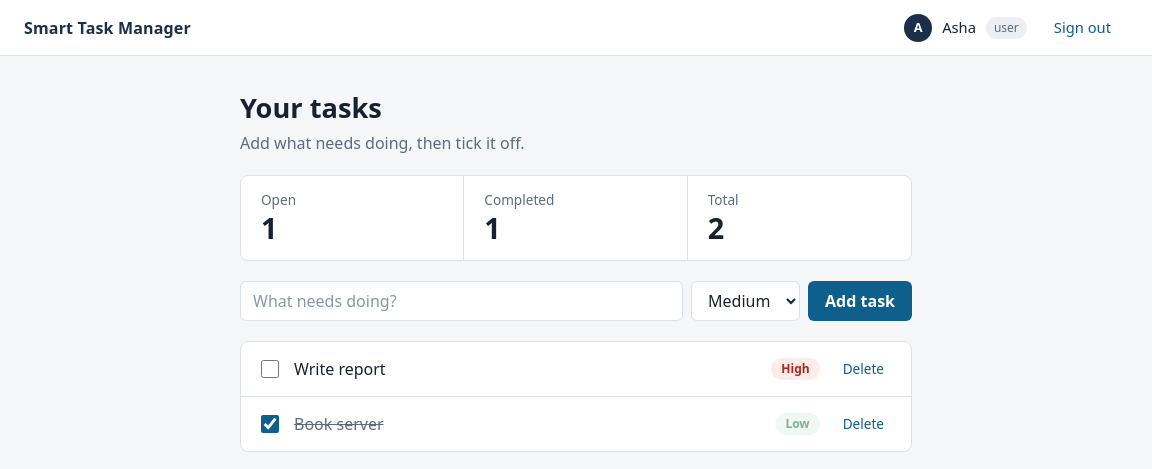
Test: ticking a task marks it done on the server
The image size is (1152, 469).
Step 1. Click the checkbox named "Mark \"Write report\" as done" → [270, 369], box [261,360,279,378]
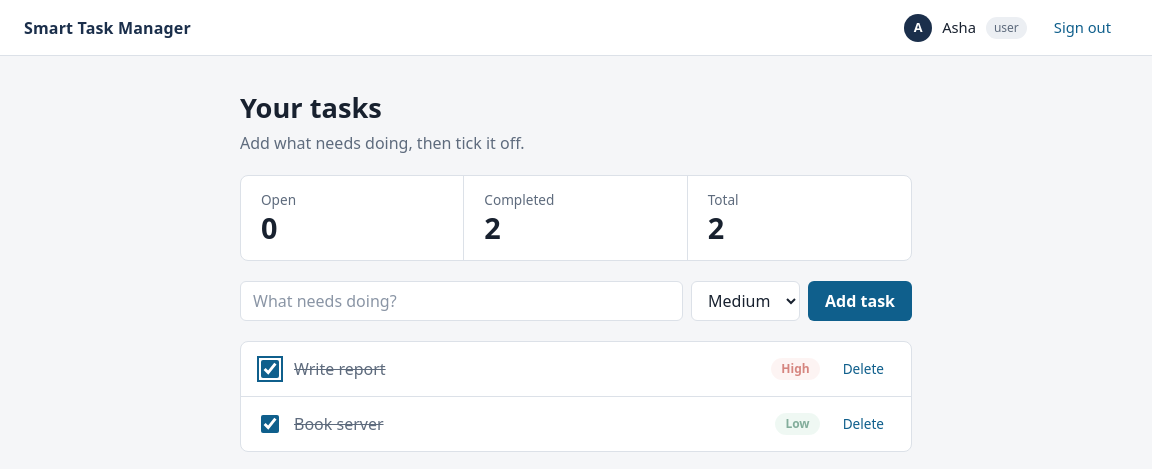
Now the text "2" below "Completed" is shown, box [484,208,501,247]
